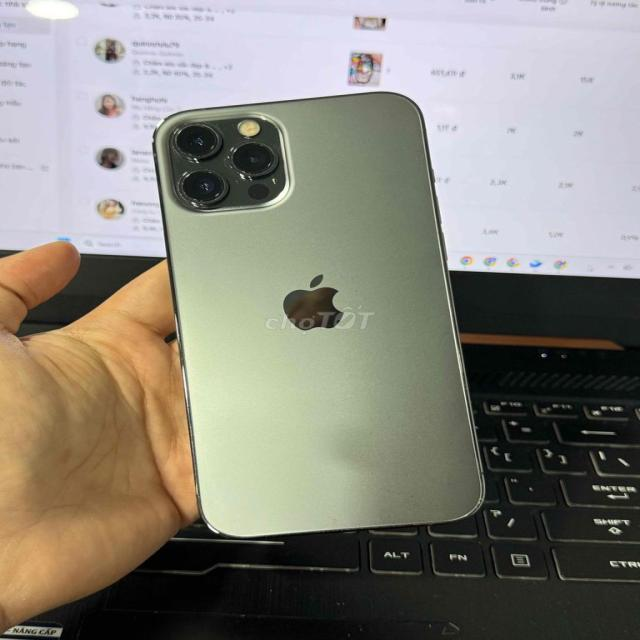gen_12_13: (148, 89, 492, 548)
